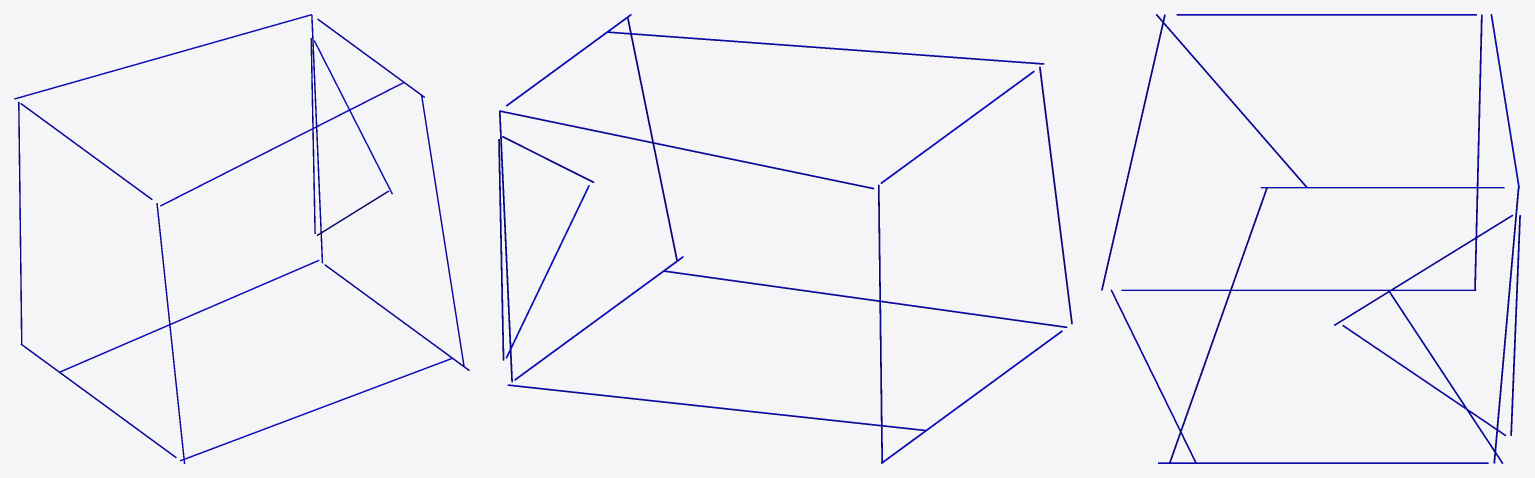
The model's file is corrected_3d_strokes.glb.
3 views of the same model, side by side, from view 1: azimuth 30°, elevation 25°; view 2: azimuth 150°, elevation 25°; view 3: azimuth 270°, elevation 25° (orthographic). The views are drawn at different scales.
Parts seen in each view (by area): view 1: world; view 2: world; view 3: world.
Part boxes in pixels (left/top/right/bottom): world: left=14, top=14, right=469, bottom=463; world: left=498, top=14, right=1072, bottom=463; world: left=1101, top=14, right=1520, bottom=463.
Bounding box in the file's own units: 9.38 × 6.98 × 9.59.
